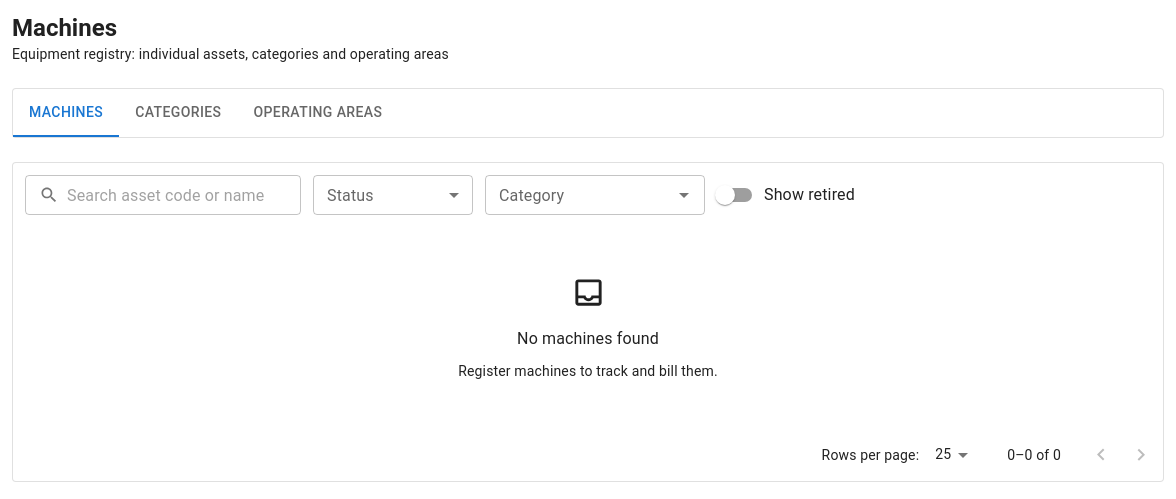
it: machine categories › hides create and mutations without write permission
What coordinates should you click on to do the following:
click the tab "Categories"
I would click on:
 (178, 113)
Its box is [119,89,237,137].
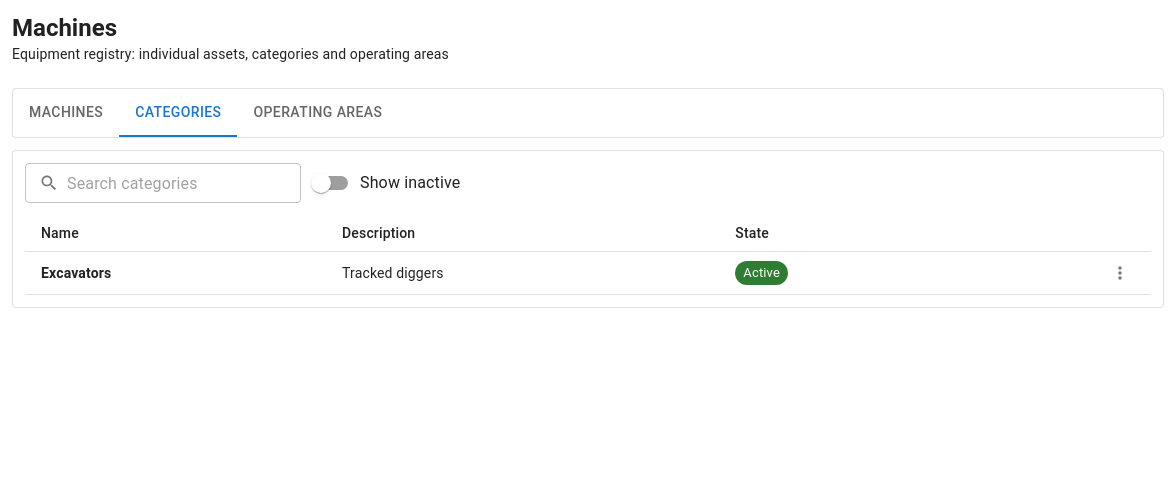
What coordinates should you click on to do the following:
click the button named "Actions for Excavators"
I would click on:
 (1120, 273)
Its box is [1105,258,1135,288].
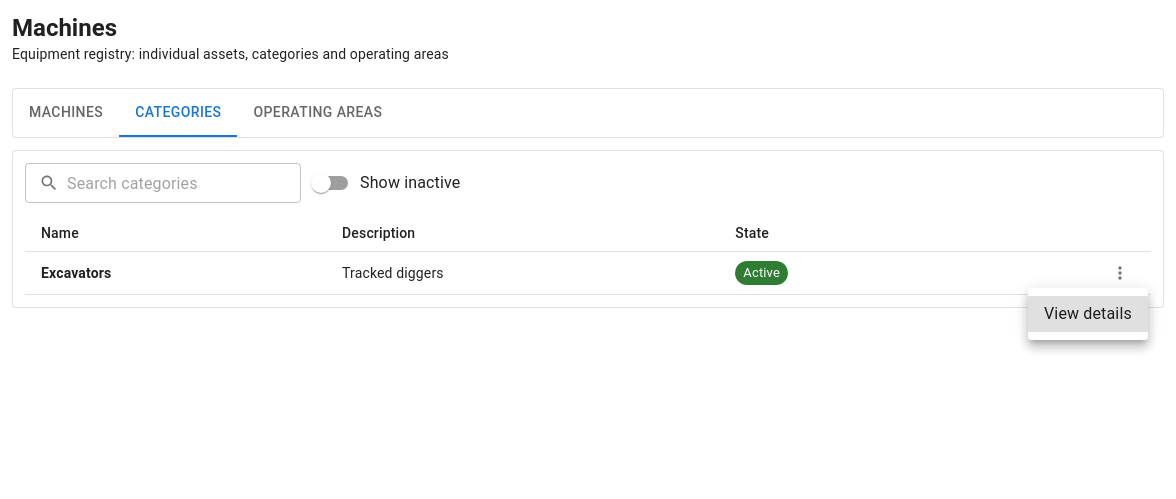
Result: the menu item "View details" is shown at [1028,296,1148,332]
